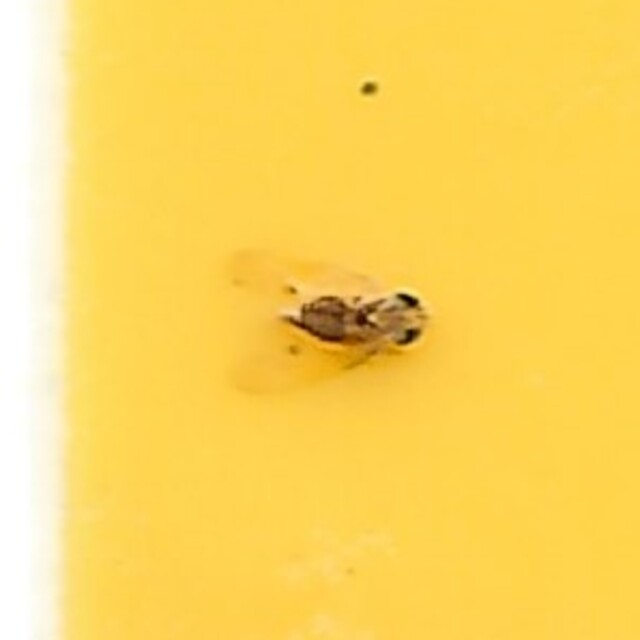Hemiptera: (215, 235, 425, 405)
